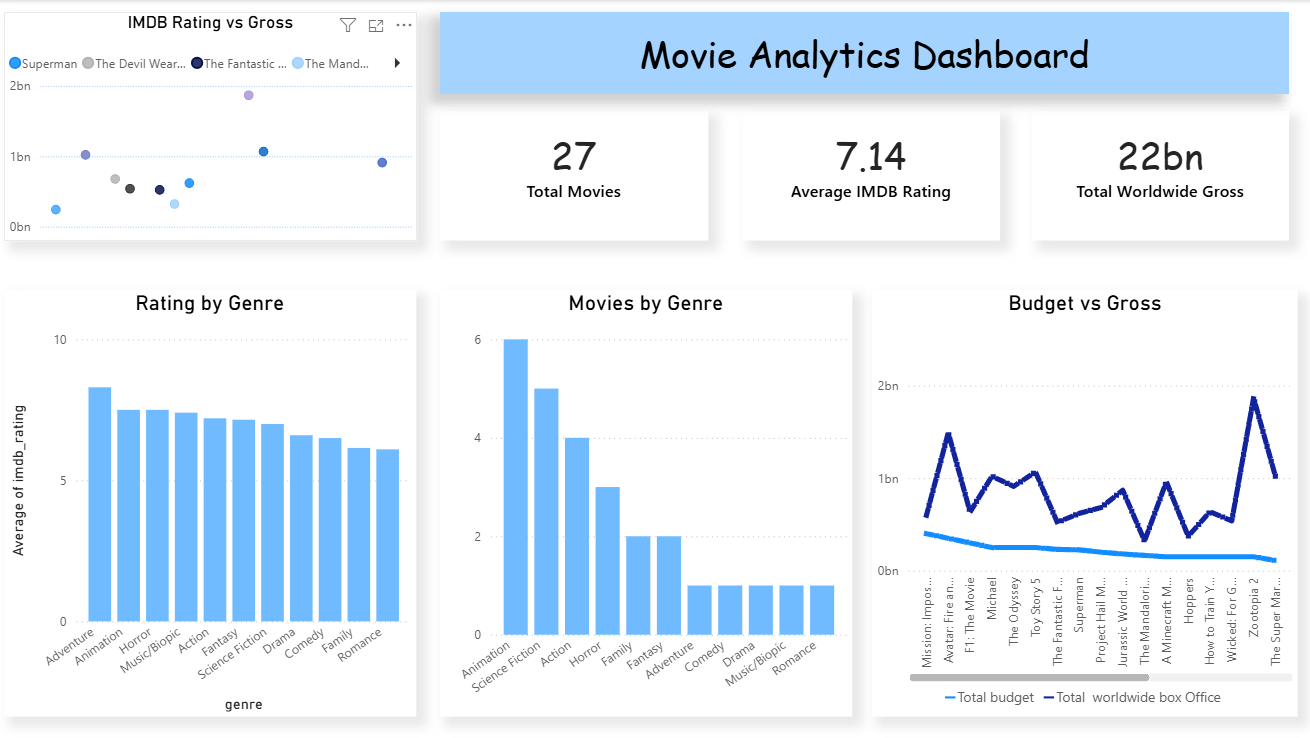

What the dashboard file says about the page in this screenshot:
{"tool":"powerbi","page":{"name":"Page 1","canvas":[1280,720],"ordinal":0},"visuals":[{"type":"cardVisual","title":"Total Movies","fields":{"Data":["CountNonNull(movies_2025_2026.title)"]},"box":[431.9,108,260.7,126.4],"z":0},{"type":"cardVisual","title":"Total Movies","fields":{"Data":["Avg(movies_2025_2026.imdb_rating)"]},"box":[726.6,108,250,126.4],"z":1000},{"type":"cardVisual","title":"Total Movies","fields":{"Data":["Sum(movies_2025_2026.worldwide_box_office_usd)"]},"box":[1007.7,108,250,126.4],"z":2000},{"type":"lineStackedColumnComboChart","title":"Movies by Genre","fields":{"Category":["movies_2025_2026.genre"],"Y":["CountNonNull(movies_2025_2026.title)"]},"box":[431.9,282.1,400.7,415.3],"z":3000},{"type":"lineChart","title":"Budget vs Gross","fields":{"Category":["movies_2025_2026.title"],"Y":["Sum(movies_2025_2026.budget_usd)","Sum(movies_2025_2026.worldwide_box_office_usd)"]},"box":[852,282.1,414.3,415.3],"z":4000},{"type":"clusteredColumnChart","title":"Rating by Genre","fields":{"Category":["movies_2025_2026.genre"],"Y":["Avg(movies_2025_2026.imdb_rating)"]},"box":[7.8,282.1,400.7,415.3],"z":5000},{"type":"scatterChart","title":"IMDB Rating vs Gross","fields":{"X":["movies_2025_2026.imdb_rating"],"Y":["movies_2025_2026.worldwide_box_office_usd"],"Series":["movies_2025_2026.title"]},"box":[7.8,11.7,401.7,222.7],"z":5001},{"type":"shape","box":[431.9,11.7,825.8,79.8],"z":5002}]}

Visuals, with their boxes in screenshot pixels (x1, y1, x2, y2), scaled from the page's 1280x720 canvas onto the 1310x738 screenshot:
"Total Movies" cardVisual: BBox(442, 111, 709, 240)
"Total Movies" cardVisual: BBox(744, 111, 999, 240)
"Total Movies" cardVisual: BBox(1031, 111, 1287, 240)
"Movies by Genre" lineStackedColumnComboChart: BBox(442, 289, 852, 715)
"Budget vs Gross" lineChart: BBox(872, 289, 1296, 715)
"Rating by Genre" clusteredColumnChart: BBox(8, 289, 418, 715)
"IMDB Rating vs Gross" scatterChart: BBox(8, 12, 419, 240)
shape: BBox(442, 12, 1287, 94)
